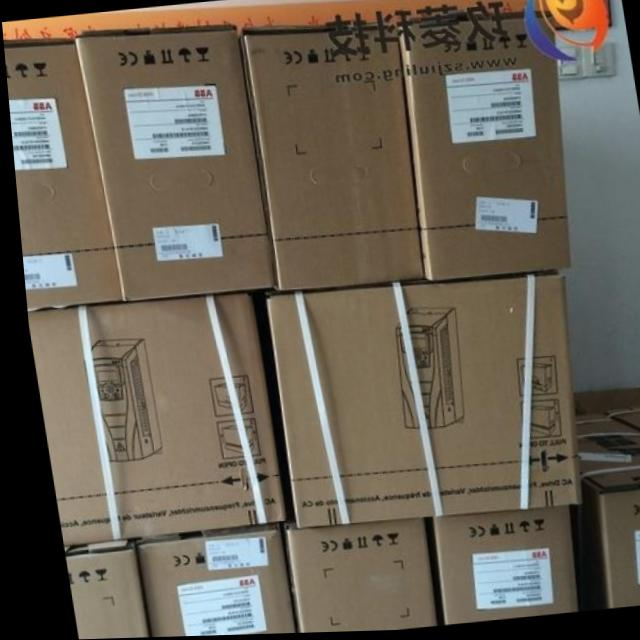box: (260, 272, 573, 530), (22, 289, 277, 544), (71, 27, 271, 303), (238, 29, 418, 293), (394, 18, 566, 284), (3, 38, 117, 310), (122, 523, 283, 638), (269, 520, 425, 634), (423, 507, 565, 626), (566, 417, 640, 613), (53, 539, 137, 639), (596, 409, 640, 437)
